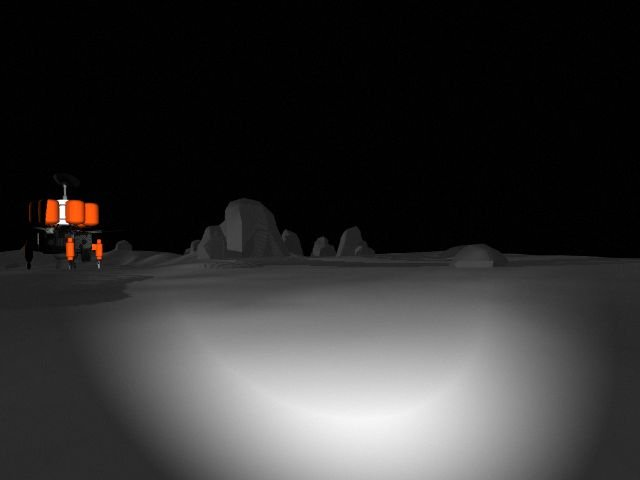homebase: (6, 169, 117, 269)
